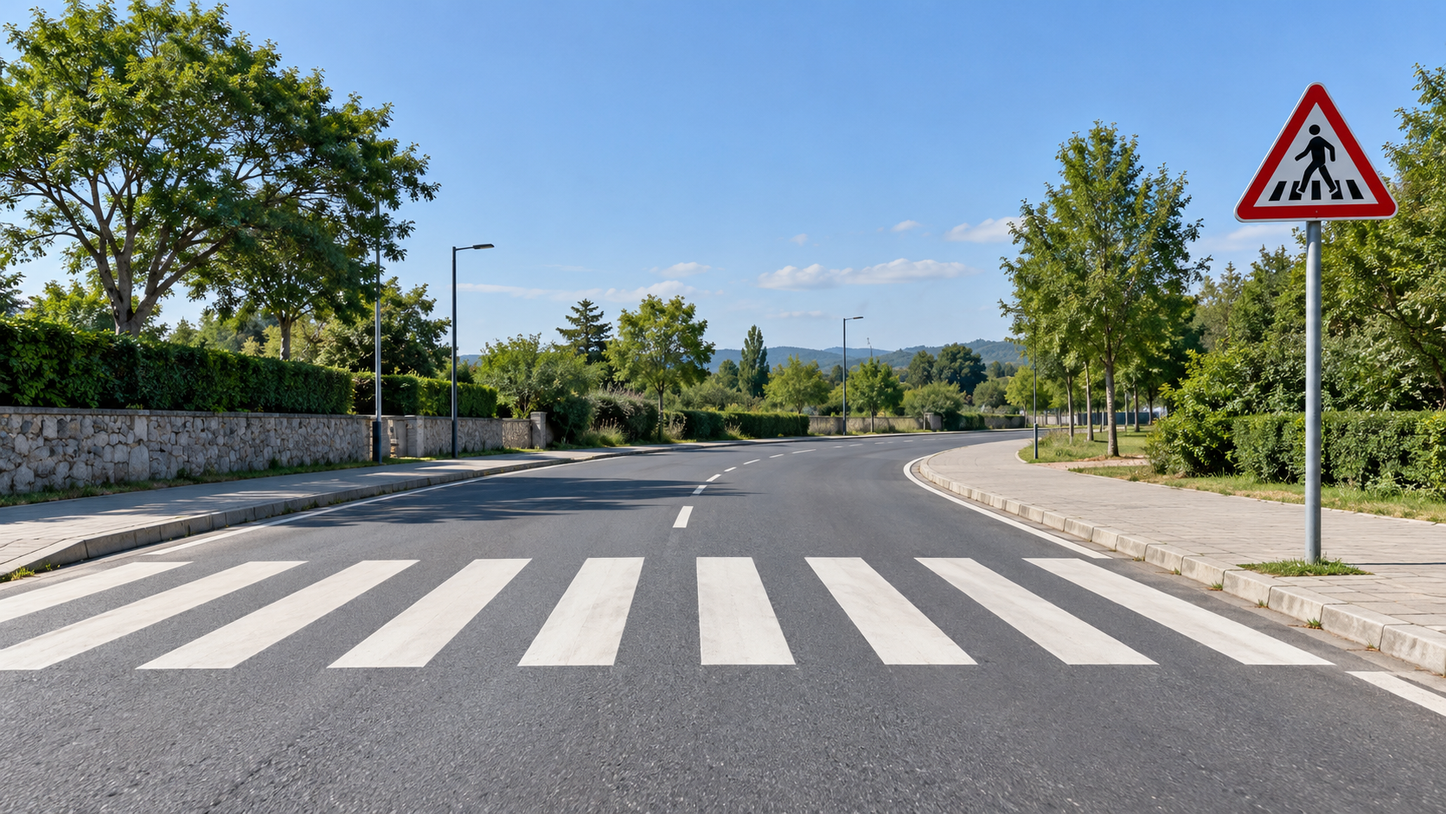crossing_warning_sign: (1237, 83, 1398, 221)
zebra_crossing: (0, 556, 1107, 671)
